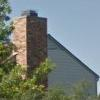Chimney: (11, 6, 62, 87)
